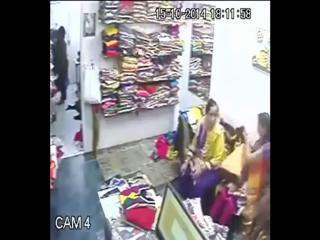Normal: (184, 99, 231, 174)
